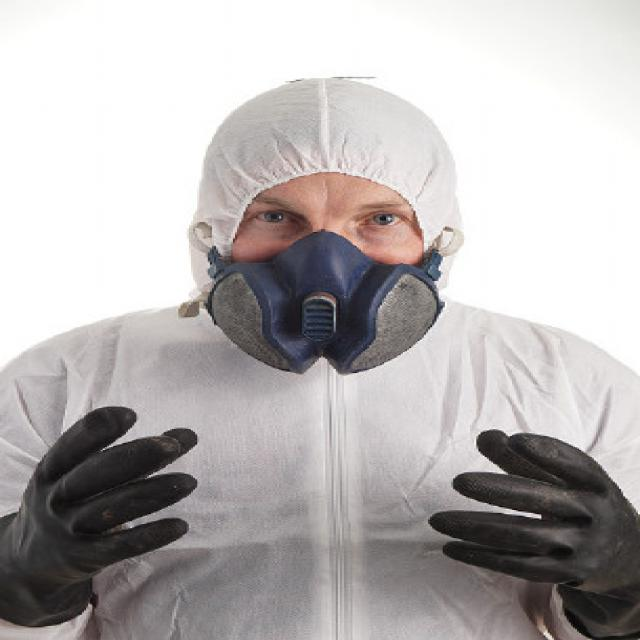mask: (222, 150, 428, 370)
